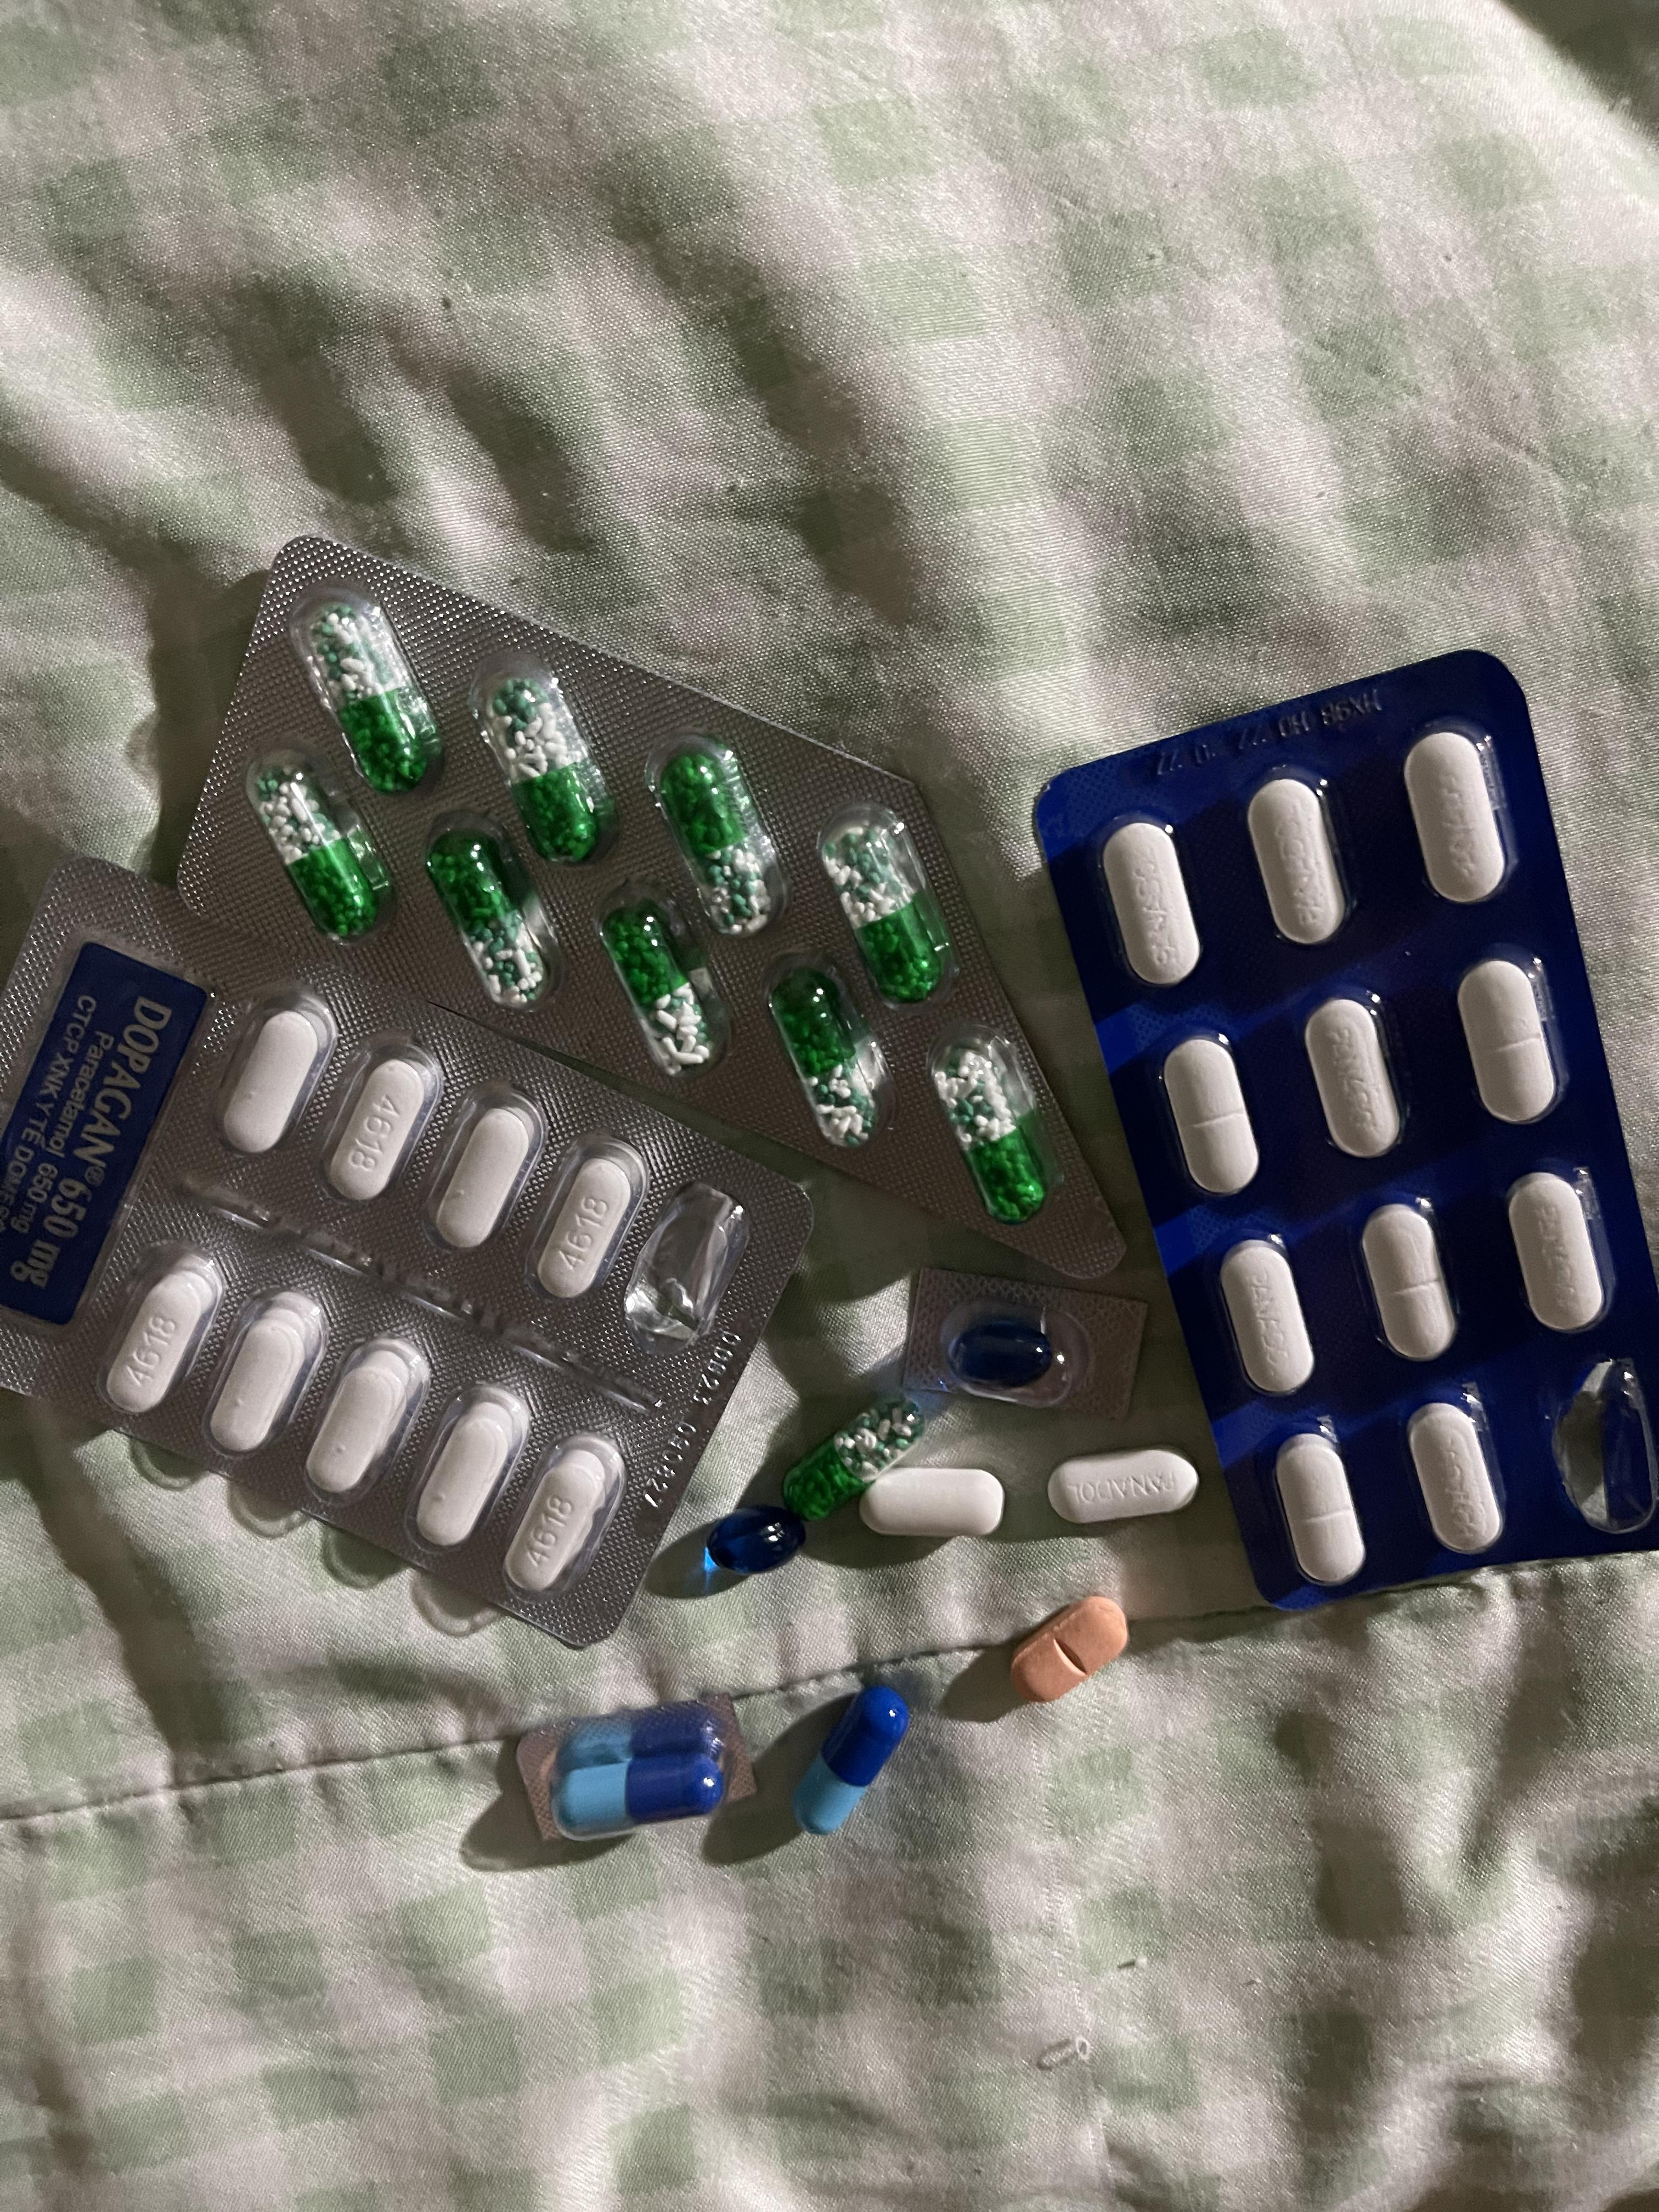Lincomyxin_500mg: (950, 1317, 1056, 1390), (702, 1505, 802, 1575)
Loratadine_10mg: (1011, 1594, 1126, 1700)
Paracetamol_350mg: (1405, 726, 1509, 907), (1246, 773, 1351, 946), (1457, 958, 1561, 1127), (1507, 1172, 1610, 1334), (1305, 998, 1408, 1160), (1100, 820, 1195, 988), (1359, 1202, 1459, 1362), (1161, 1035, 1256, 1195), (1218, 1240, 1314, 1395), (1406, 1400, 1502, 1554), (1272, 1433, 1363, 1587), (1051, 1447, 1199, 1527)
Paracetamol_500mg: (314, 1029, 441, 1202), (303, 1336, 427, 1505), (420, 1083, 542, 1252), (207, 1287, 329, 1456), (532, 1134, 652, 1299), (101, 1254, 221, 1416), (411, 1386, 528, 1548), (507, 1432, 624, 1594), (223, 1007, 324, 1150), (861, 1467, 1006, 1538)
Paracetamol_650mg: (420, 808, 544, 998), (307, 603, 432, 789), (823, 810, 945, 998), (660, 752, 779, 942), (256, 765, 382, 935), (484, 676, 603, 855), (598, 904, 714, 1080), (769, 970, 880, 1150), (936, 1043, 1047, 1217), (779, 1397, 920, 1524)
pill: (545, 1703, 730, 1839), (796, 1683, 910, 1834)
